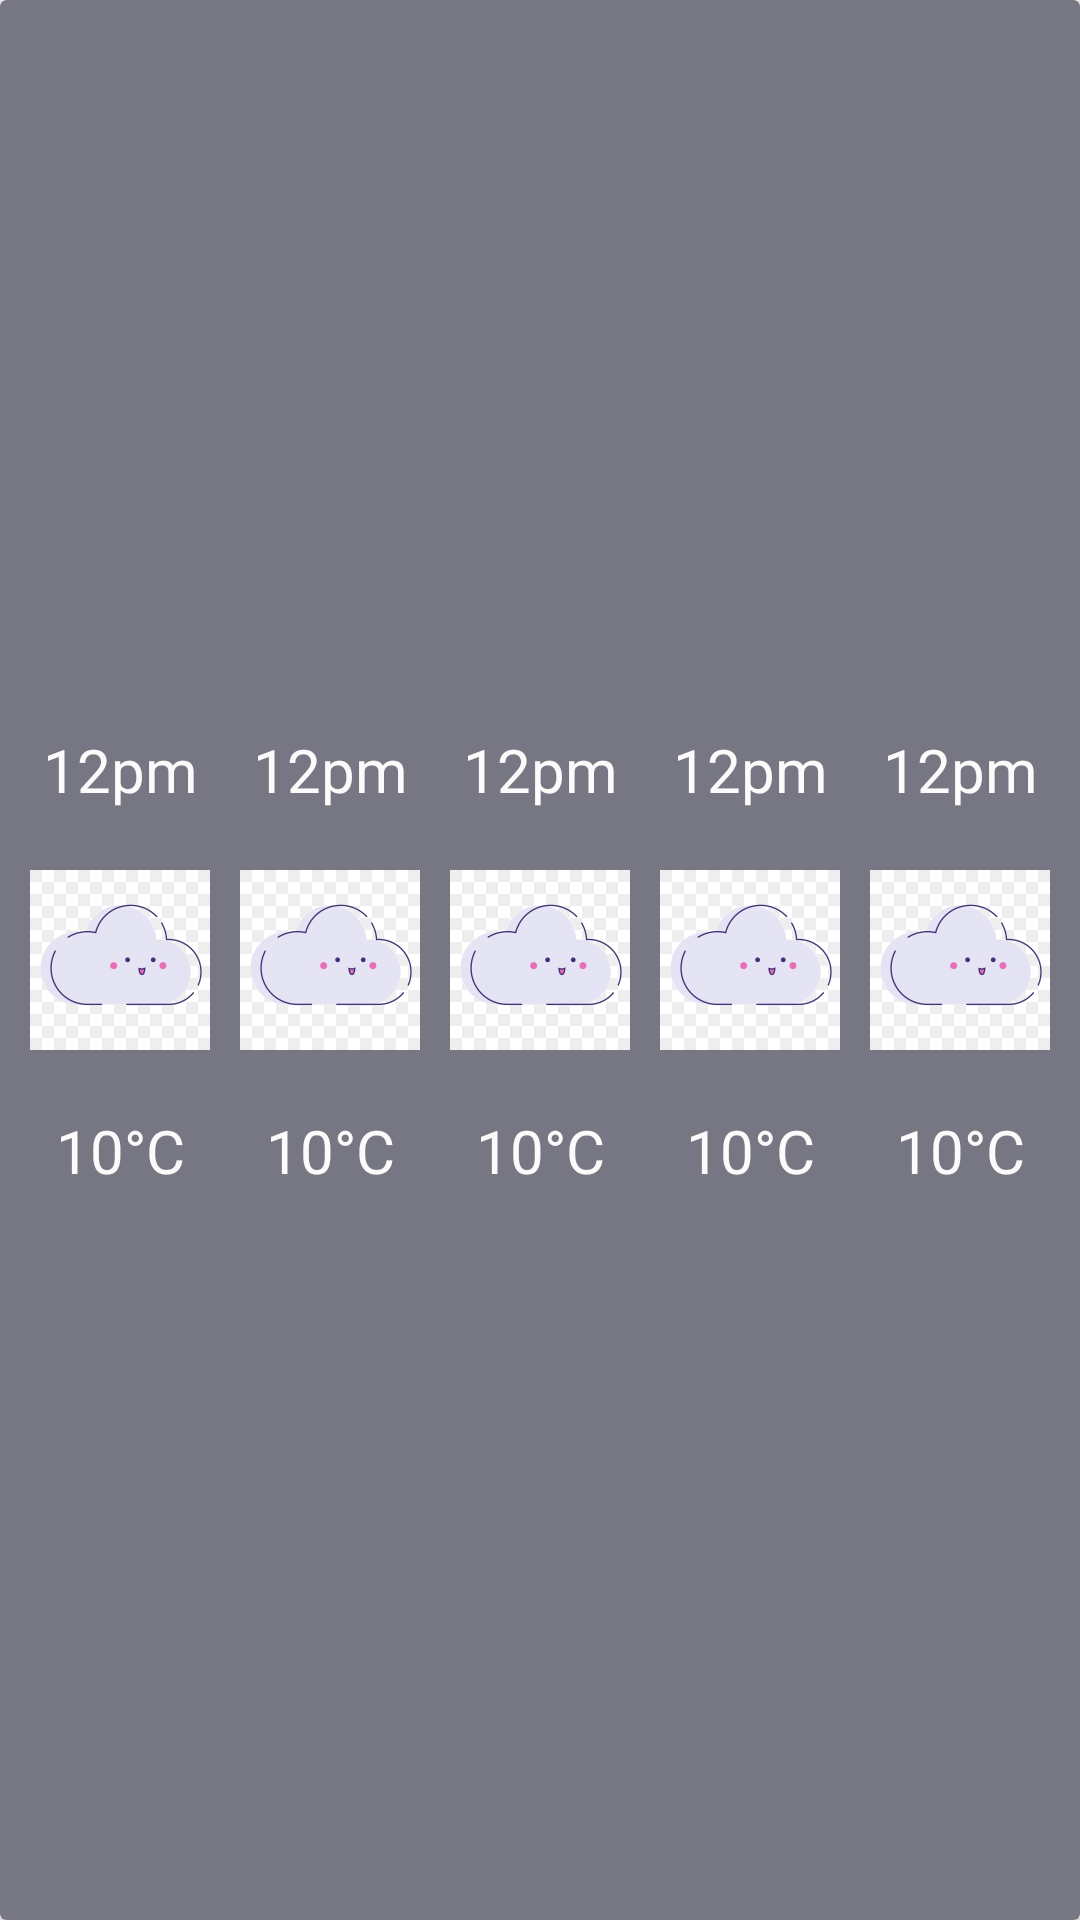

Icons on this 1080x1920 Android screen, each with the point to tap as point (x, y):
cloud: point (120, 960), point (330, 960), point (540, 960), point (750, 960), point (960, 960)
